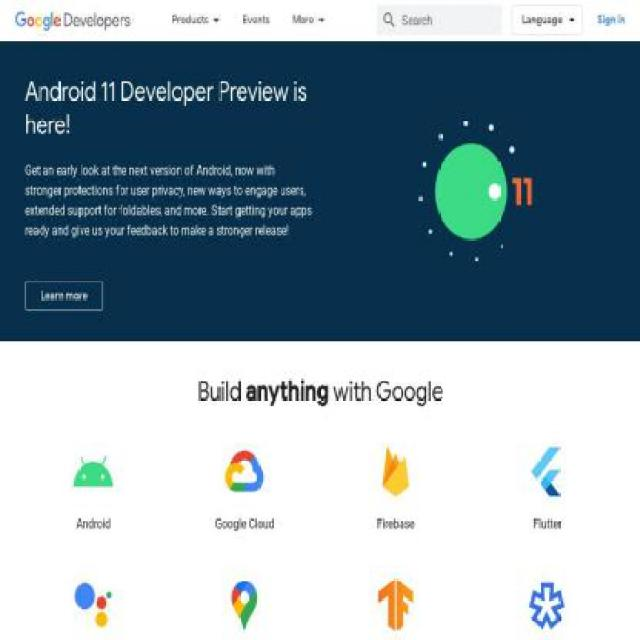button: (15, 6, 131, 34), (25, 280, 103, 312), (224, 444, 264, 504), (376, 444, 416, 504), (527, 444, 567, 504), (73, 578, 113, 638), (224, 578, 264, 638), (376, 578, 416, 638), (527, 578, 567, 638), (512, 4, 582, 36), (73, 456, 113, 492), (592, 4, 631, 36)
field: (377, 4, 501, 36)
